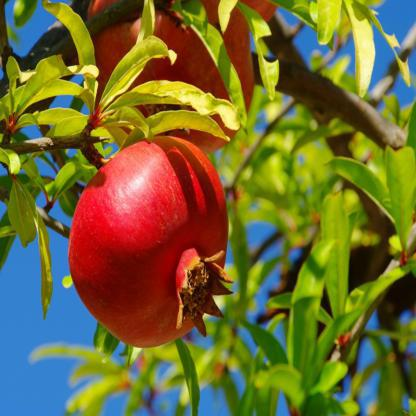pomegranate: (68, 136, 232, 348)
